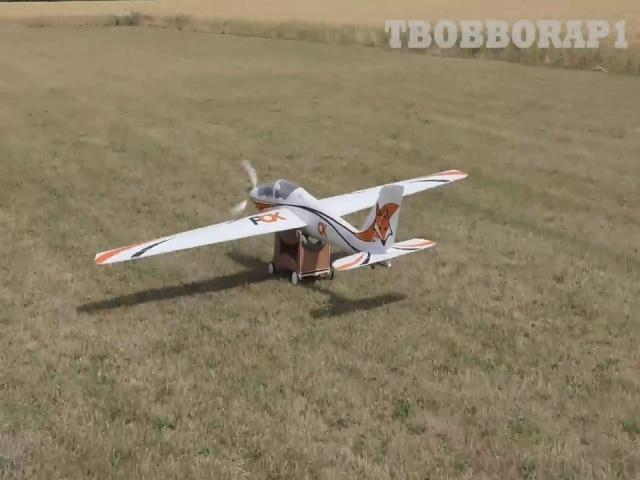Airplane: (94, 160, 469, 285)
